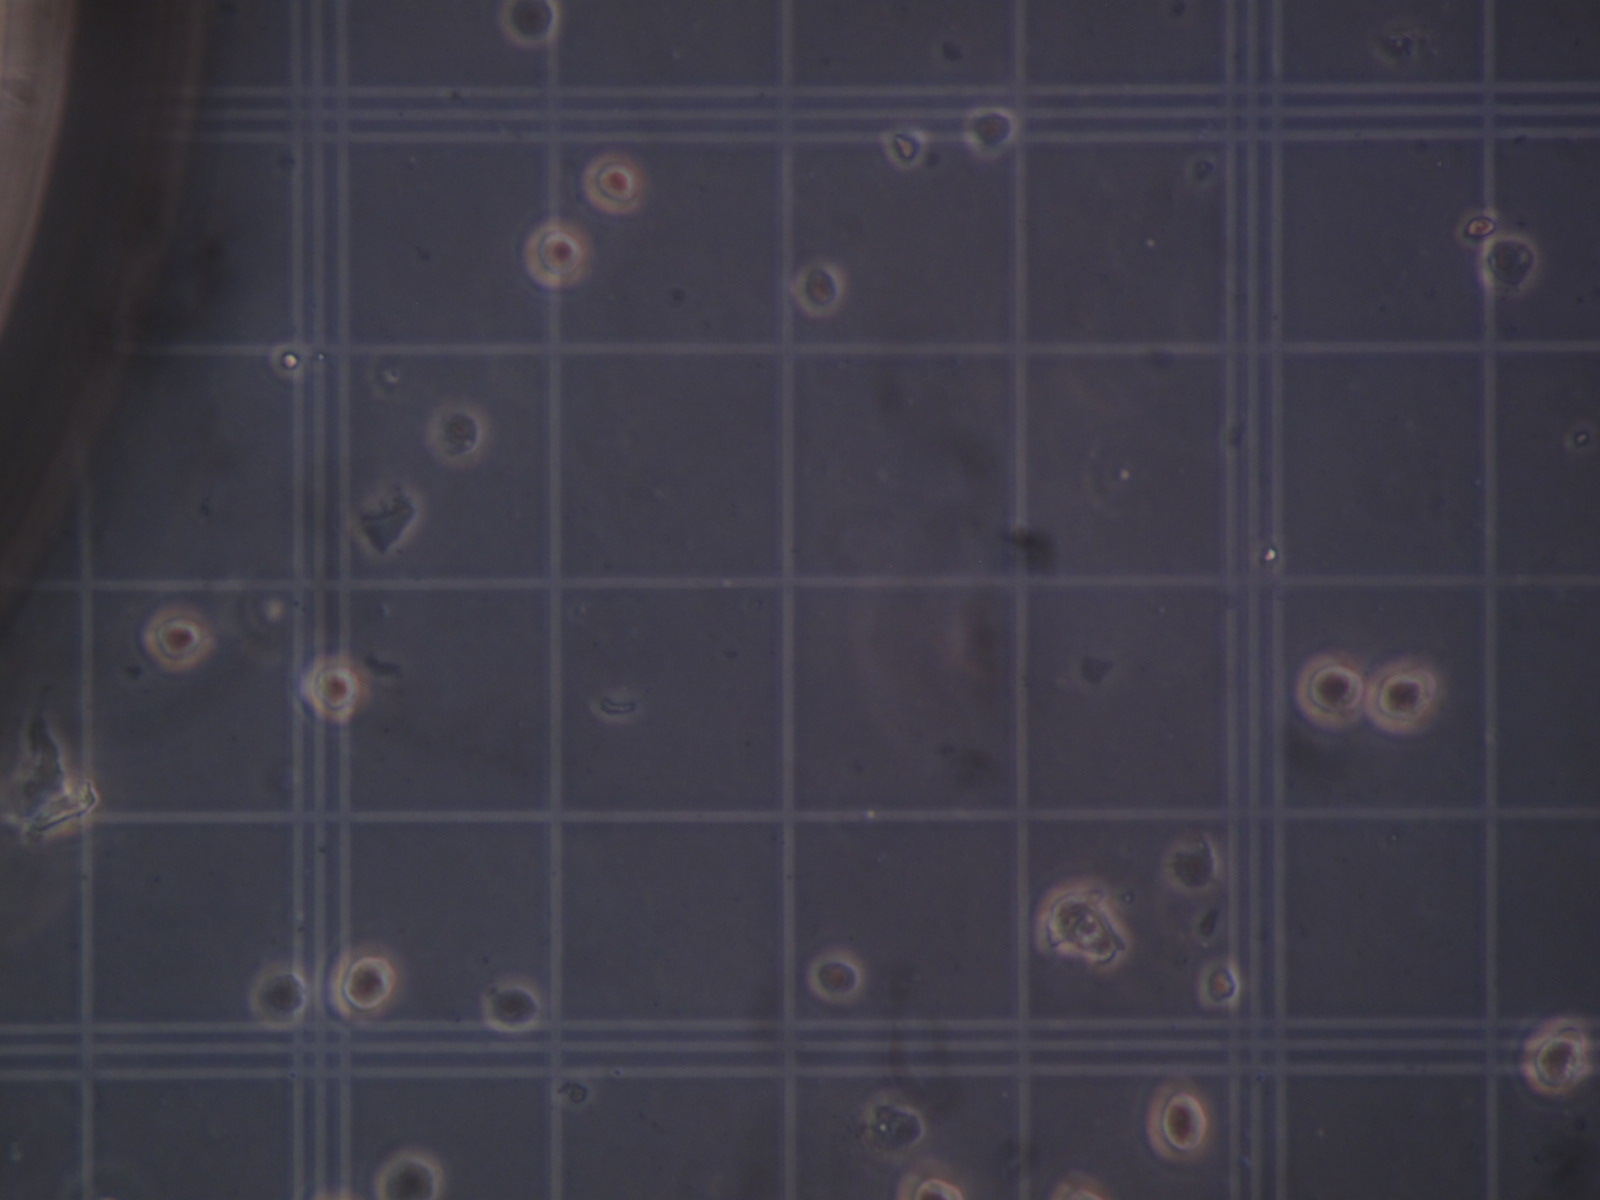hemo: (1037, 885, 1126, 966), (328, 942, 406, 1022), (1146, 1080, 1213, 1162), (1364, 661, 1437, 734), (1295, 653, 1364, 729), (141, 604, 215, 672), (862, 1089, 930, 1162), (1521, 1029, 1591, 1095), (523, 221, 590, 289), (248, 964, 311, 1029), (581, 153, 645, 216), (304, 655, 364, 722), (1479, 232, 1540, 295), (427, 402, 485, 466), (372, 1150, 445, 1200), (1163, 834, 1220, 895), (483, 979, 542, 1034), (808, 949, 863, 1005), (963, 105, 1018, 158), (794, 260, 844, 318), (499, 1, 561, 47), (897, 1161, 968, 1200), (1198, 961, 1241, 1008), (1455, 209, 1500, 248)
